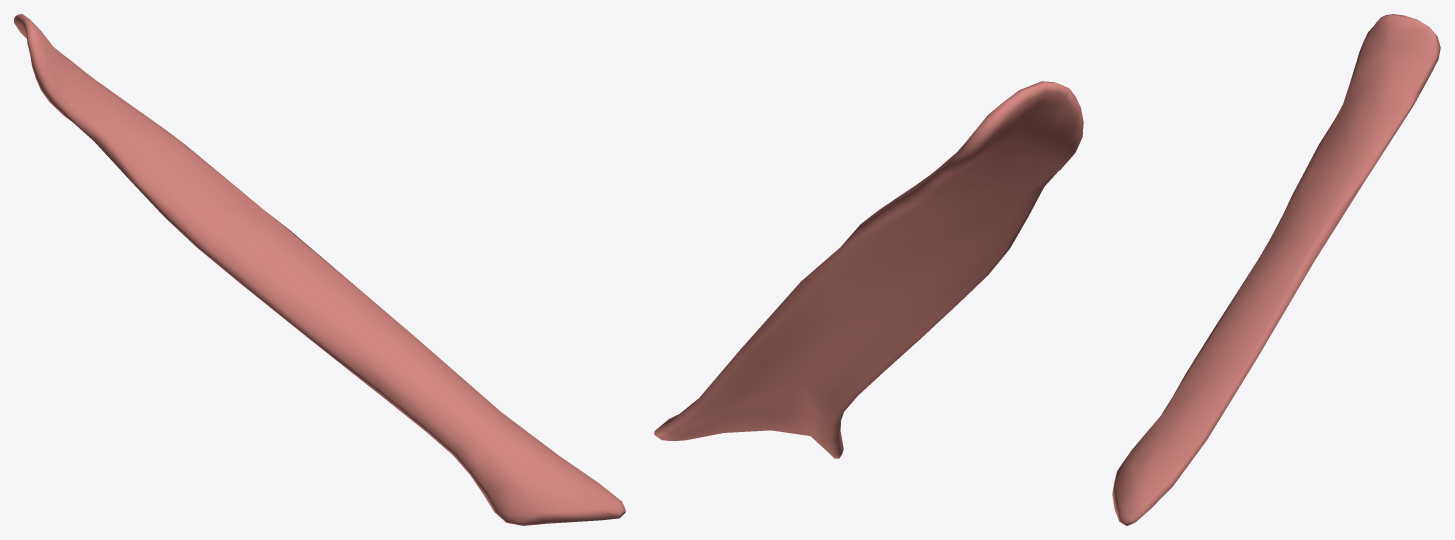
The picture shows the model from 3 angles, left to right: view 1: azimuth 30°, elevation 25°; view 2: azimuth 150°, elevation 25°; view 3: azimuth 270°, elevation 25°; orthographic projection. The views are drawn at different scales.
Visible parts, largest first — view 1: ZA_4ebafa31eab2f3a4; view 2: ZA_4ebafa31eab2f3a4; view 3: ZA_4ebafa31eab2f3a4.
Part boxes in pixels (x1,y1,x2,y2): ZA_4ebafa31eab2f3a4: (14,14,625,525); ZA_4ebafa31eab2f3a4: (654,81,1083,458); ZA_4ebafa31eab2f3a4: (1112,14,1440,525).
Size of the model in its own units: 0.0197 by 0.0202 by 0.0169.
